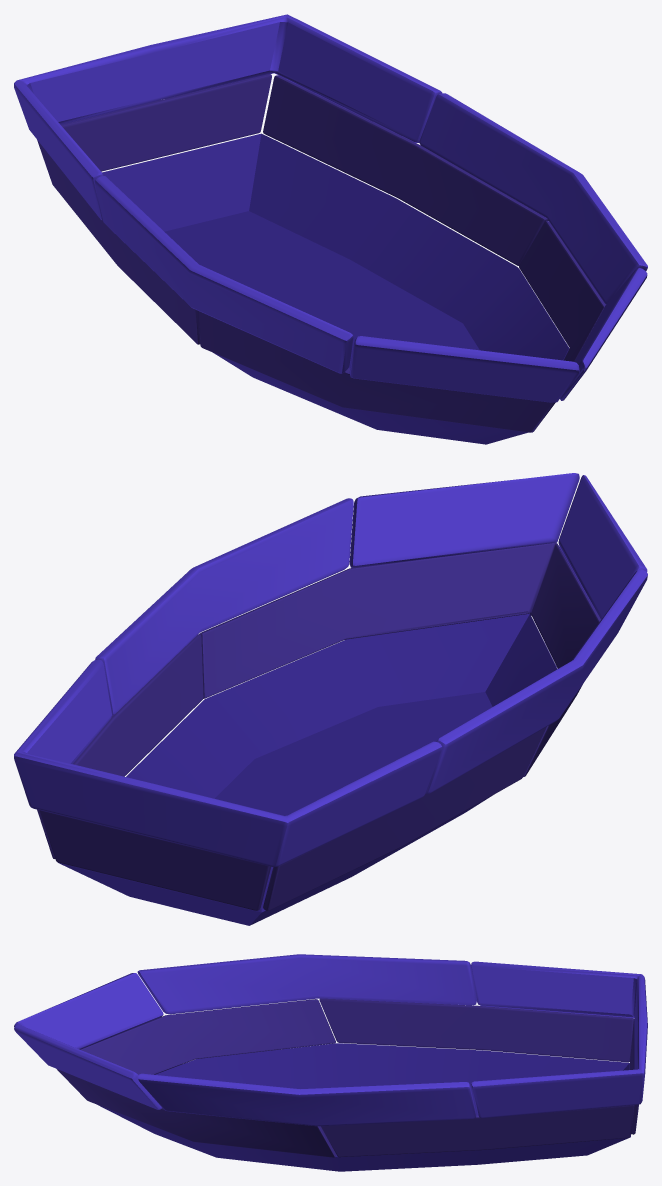
File: boat.fbx
3 views of the same model, one above another, from view 1: azimuth 30°, elevation 25°; view 2: azimuth 150°, elevation 25°; view 3: azimuth 270°, elevation 25° (orthographic). The views are drawn at different scales.
Parts seen in each view (by area): view 1: Plane.026; view 2: Plane.026; view 3: Plane.026.
Part boxes in pixels (left/top/right/bottom): Plane.026: left=14, top=14, right=647, bottom=444; Plane.026: left=14, top=473, right=647, bottom=925; Plane.026: left=14, top=954, right=647, bottom=1171.
Bounding box in the file's own units: 280 × 105 × 537.
